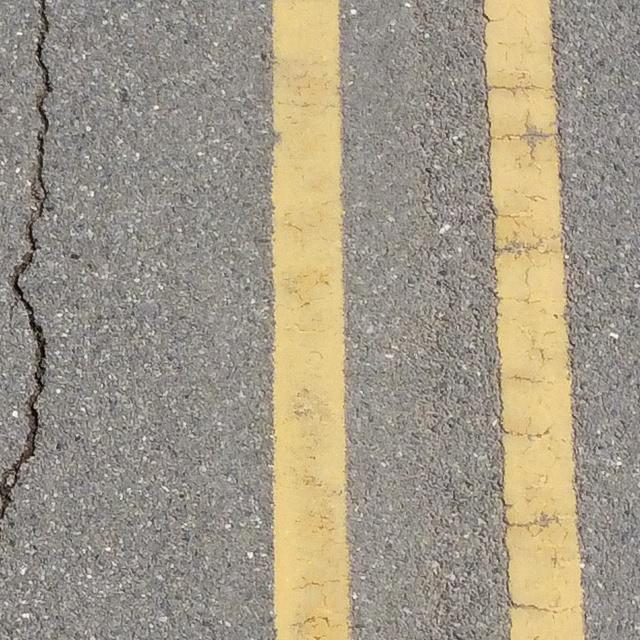LongitudinalCrack: (1, 1, 55, 519)
